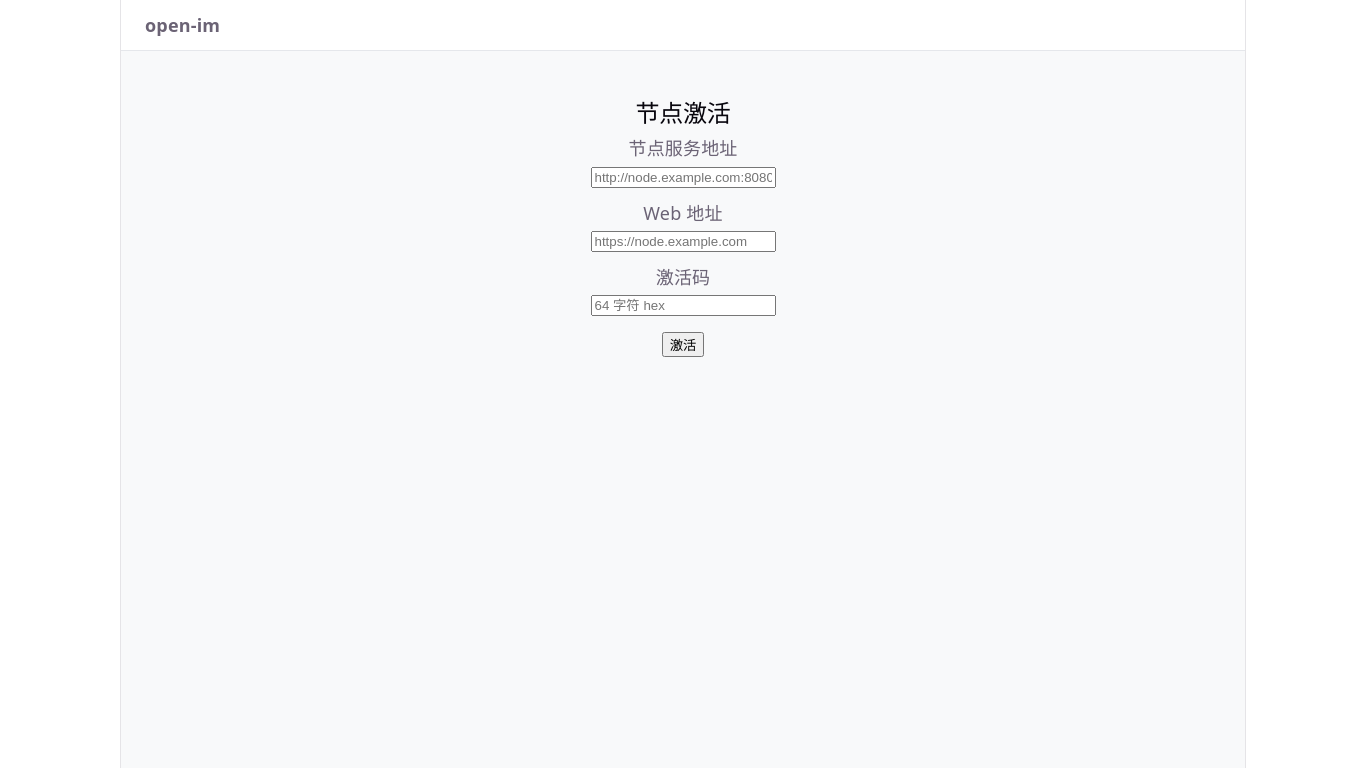
Test case: 激活成功后显示成功提示
This screenshot has width=1366, height=768.
Type "http://n.test:8080" into the field labelled "节点服务地址".
click(683, 177); type("http://n.test:8080")  # box [590, 166, 776, 188]
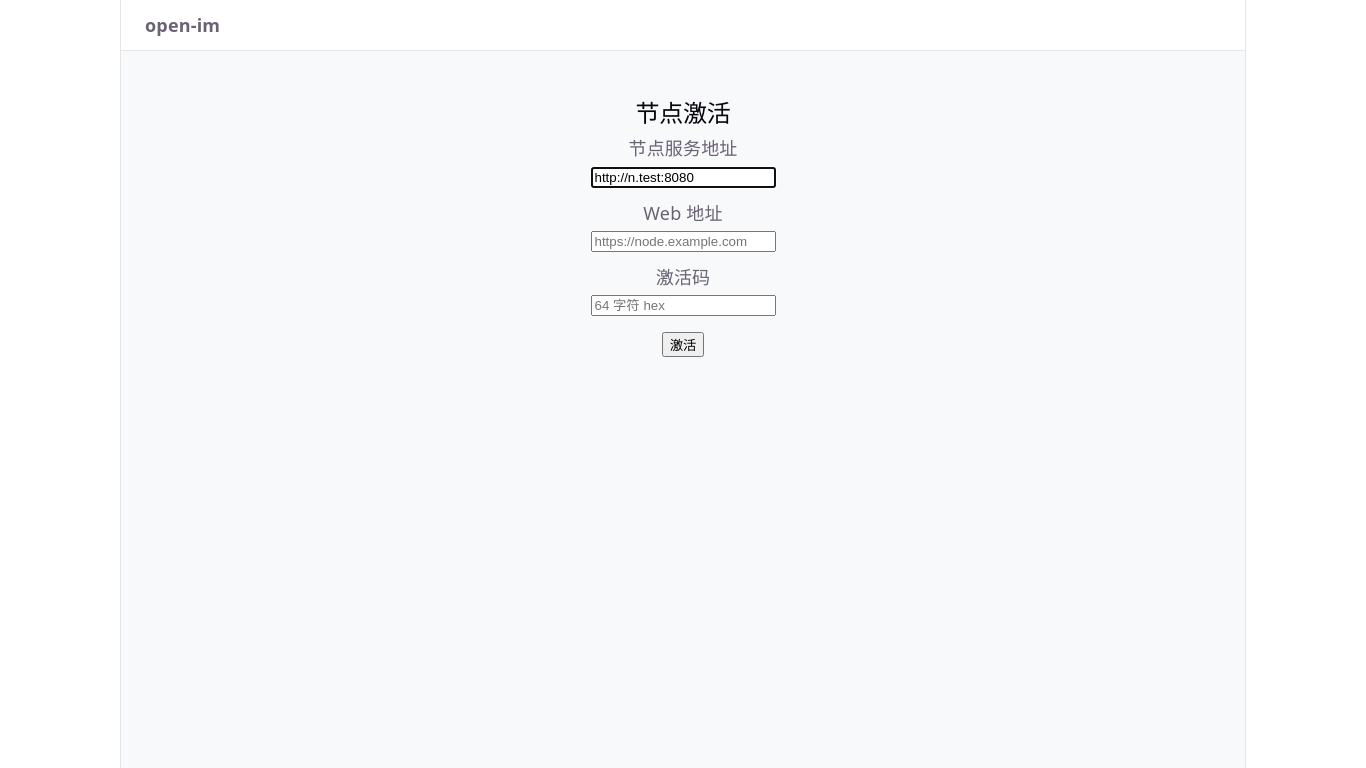
Type "http://n.test" into the field labelled "Web 地址".
click(683, 241); type("http://n.test")  # box [590, 231, 776, 252]
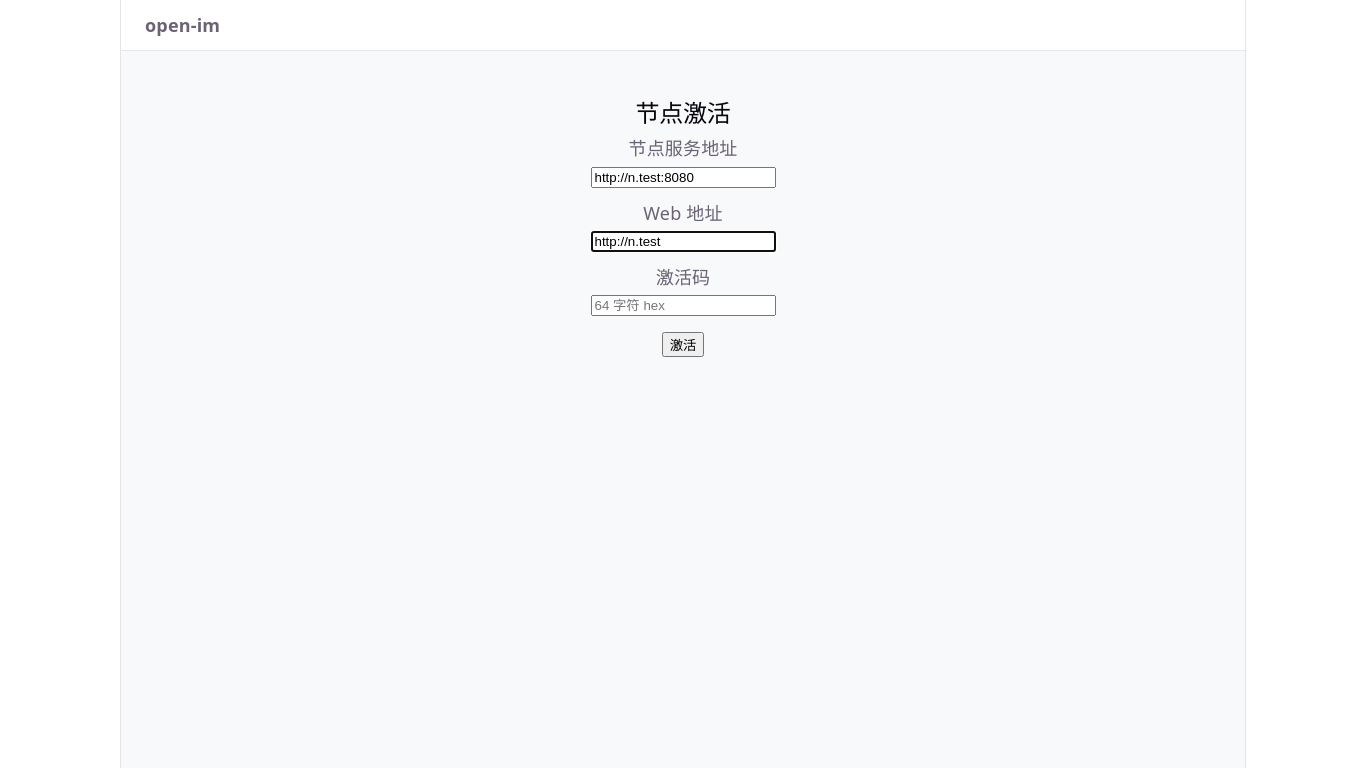
Type "abc123" into the field labelled "激活码".
click(683, 305); type("abc123")  # box [590, 295, 776, 316]
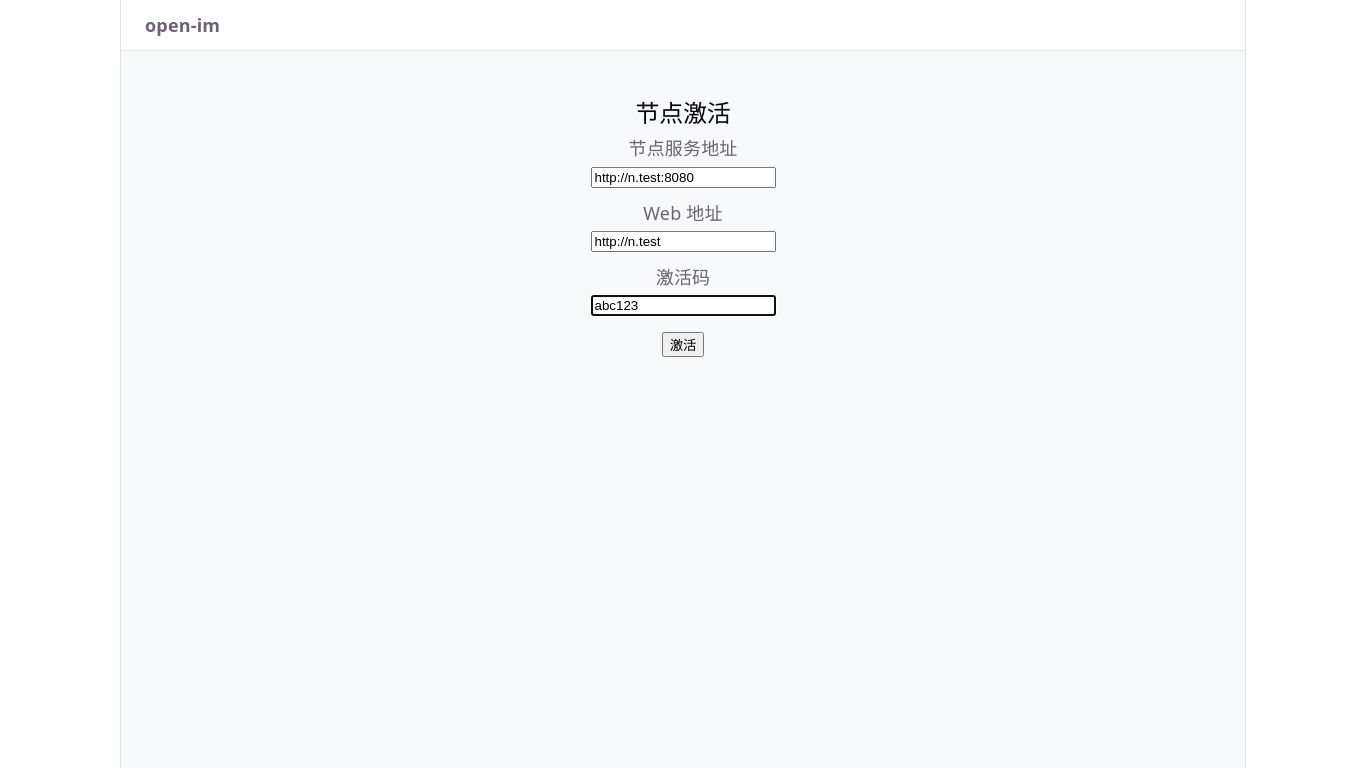
Click the button "激活".
click(683, 344)  # box [662, 332, 704, 357]
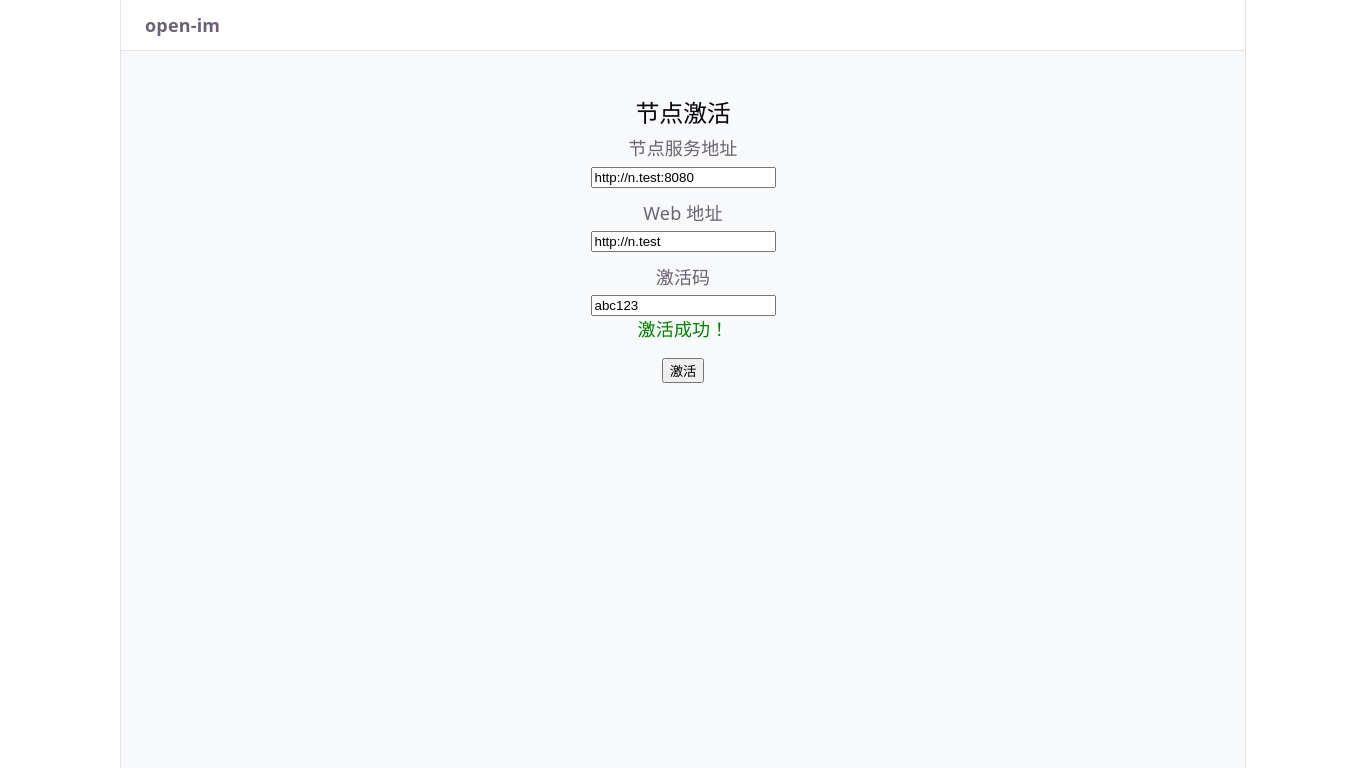
Now the text "激活成功！" is shown, box [638, 317, 728, 341]
